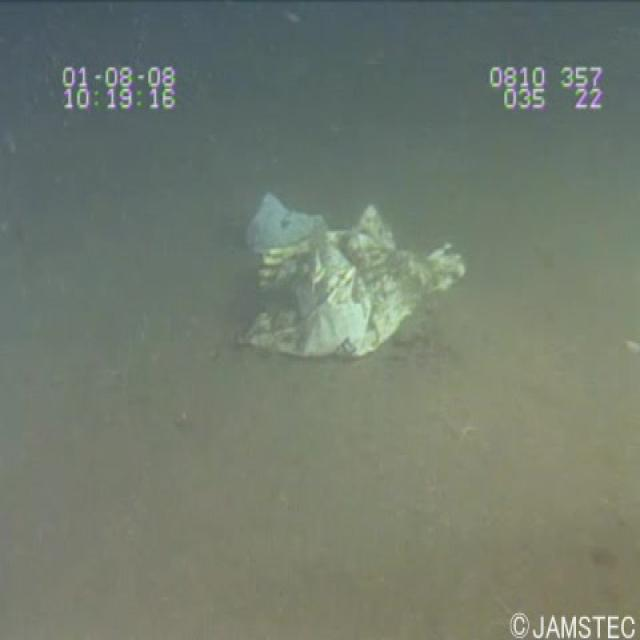plastic: (213, 178, 483, 378)
